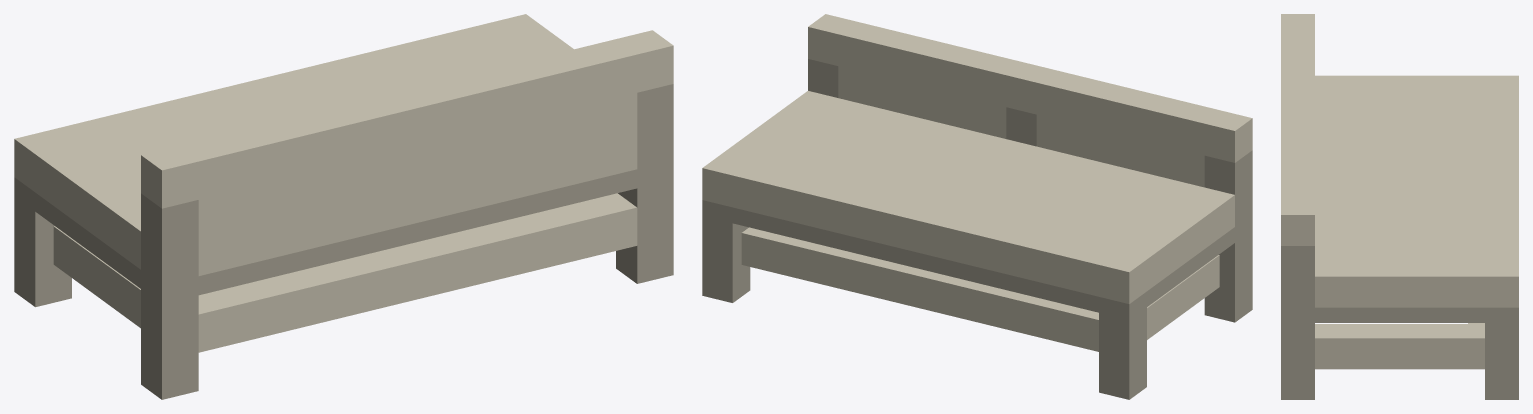
Rendered from banco_respaldo_abedul_01.glb.
3 renders of one model, left to right at view 1: azimuth 30°, elevation 25°; view 2: azimuth 150°, elevation 25°; view 3: azimuth 270°, elevation 25°, orthographic. The views are drawn at different scales.
Parts seen in each view (by area): view 1: banco_respaldo_abedul; view 2: banco_respaldo_abedul; view 3: banco_respaldo_abedul.
Part boxes in pixels (box(x1,y1,x2,y2)): banco_respaldo_abedul: box(14, 14, 673, 399); banco_respaldo_abedul: box(702, 14, 1252, 399); banco_respaldo_abedul: box(1281, 14, 1518, 399).
Size of the model in its own units: 2 by 0.8571 by 1.
